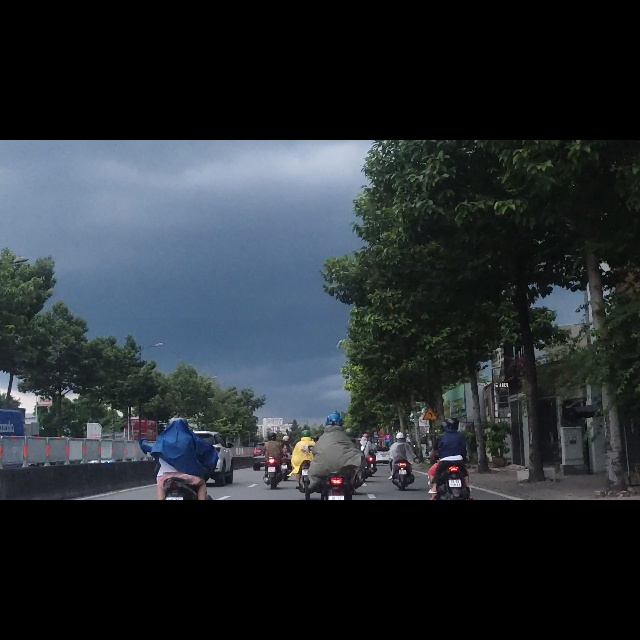bien_cam: (422, 474, 438, 498)
